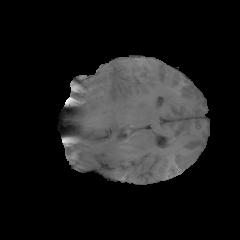glioma: (77, 65, 129, 132)
